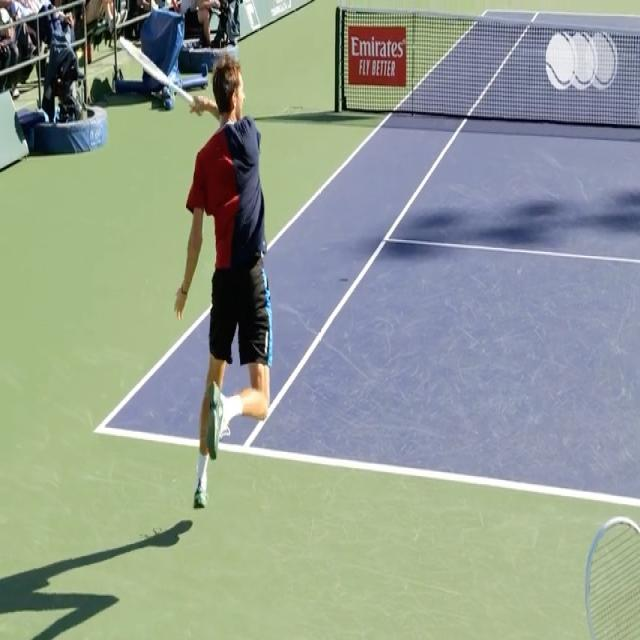forehand-finish: (119, 37, 275, 508)
